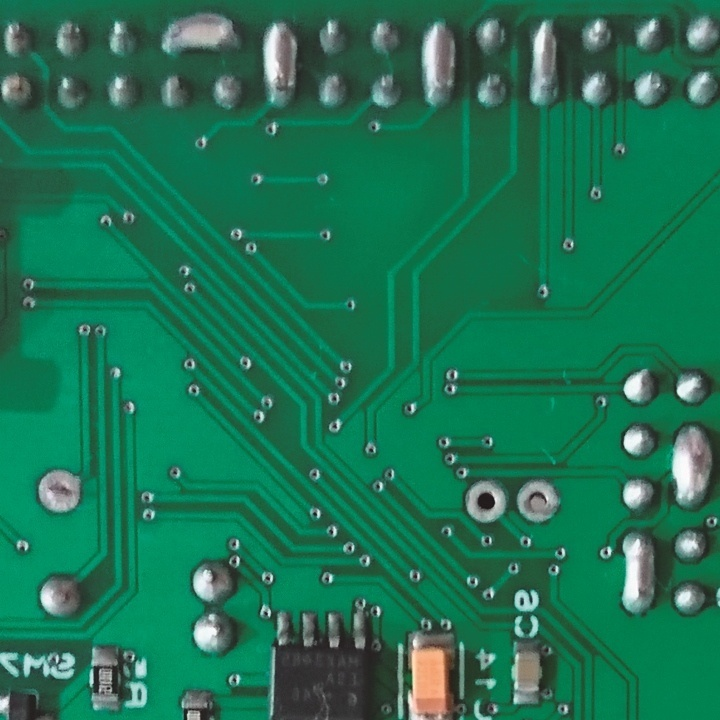F: (513, 477, 562, 528), (36, 468, 84, 516), (461, 480, 510, 527)
P: (666, 420, 718, 514), (419, 18, 461, 119), (257, 20, 301, 109), (524, 15, 563, 112), (159, 10, 241, 56), (618, 528, 659, 618)
